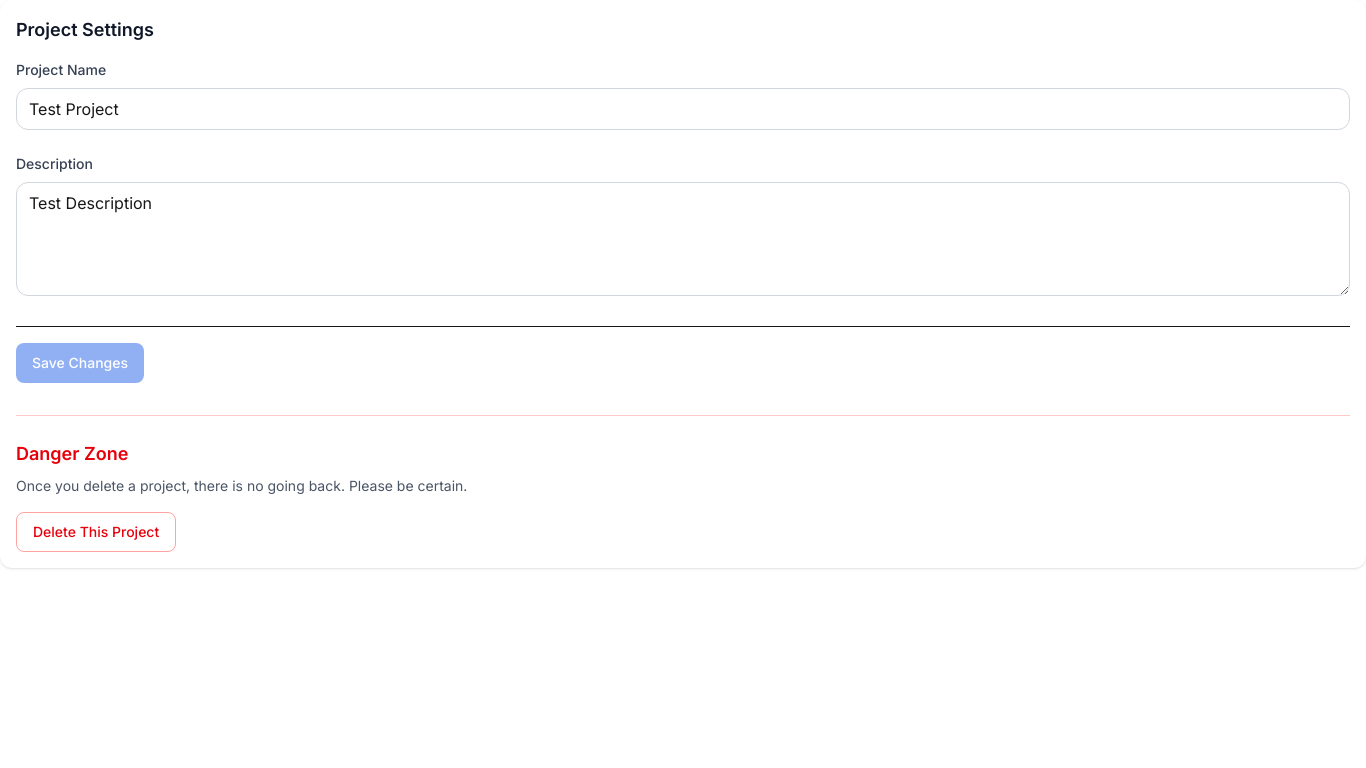
Test case: ProjectSettingsTab › shows confirmation dialog when delete is clicked
The image size is (1366, 768).
Click the button "Delete This Project": point(96, 532) [16, 512, 176, 552]
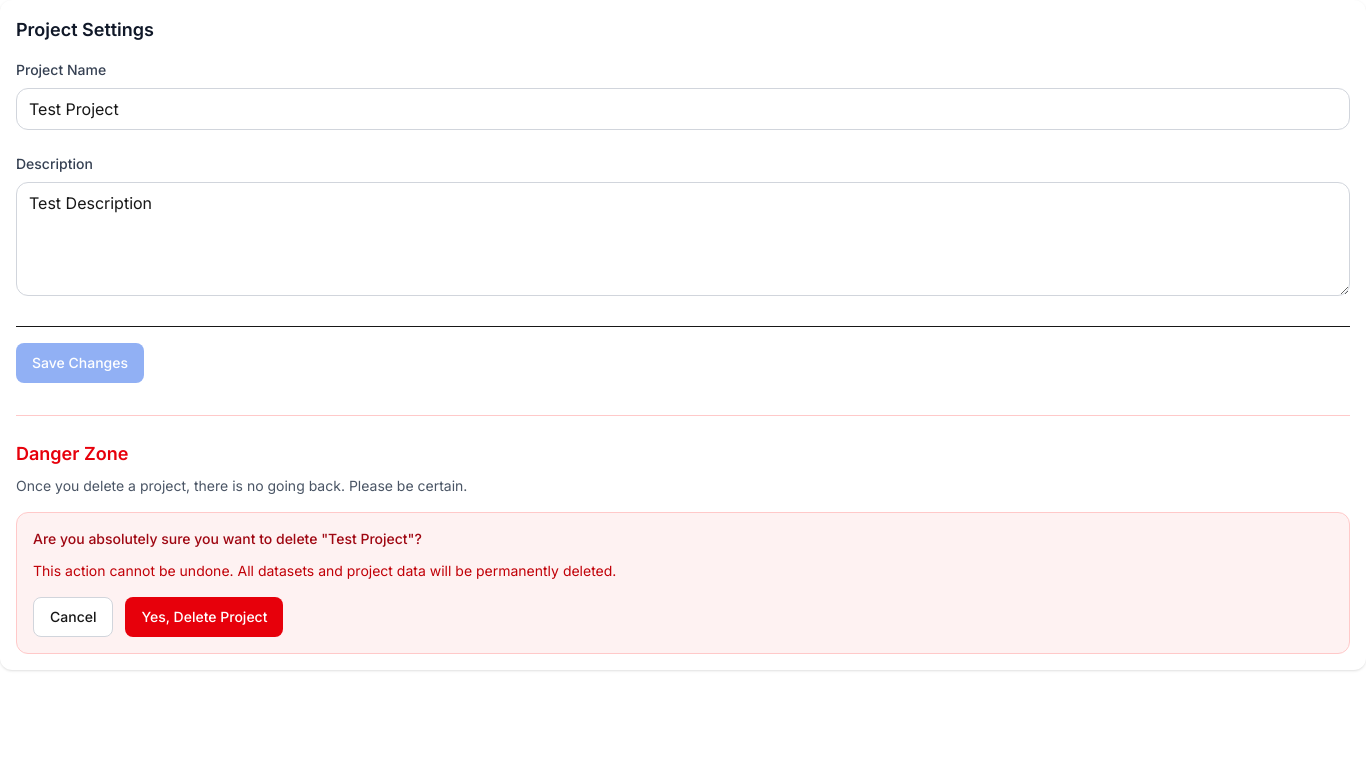
Check: the text "Are you absolutely sure you want to delete \"Test Project\"?" is shown, box [33, 530, 422, 547]
